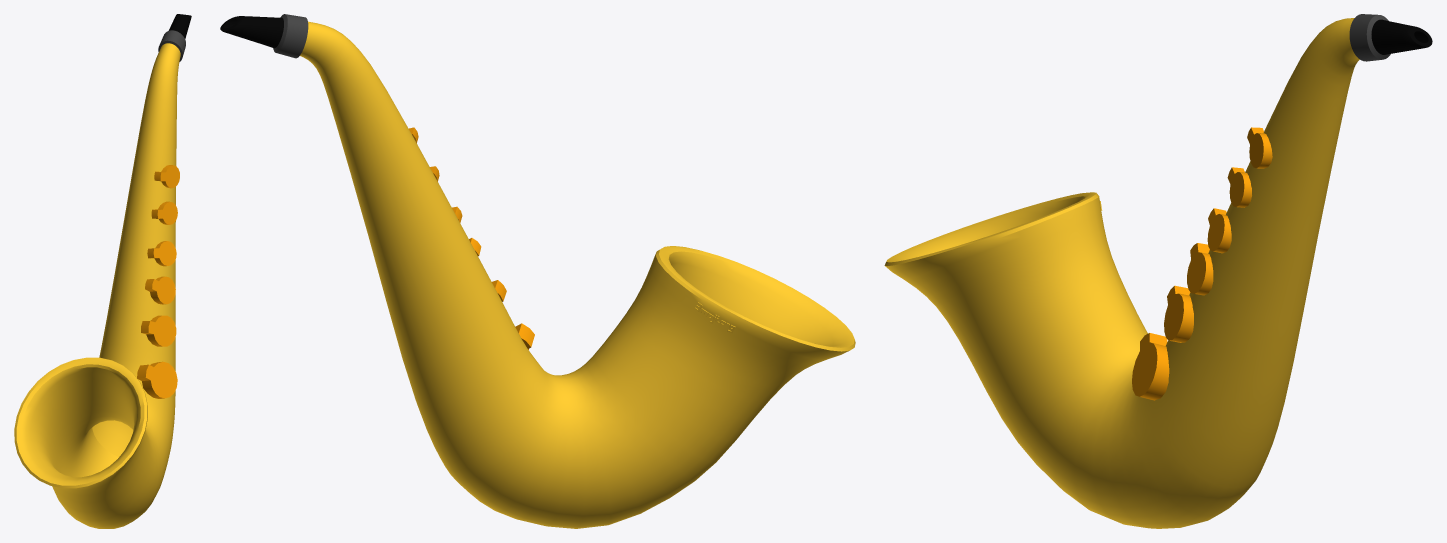
The model's file is saxophone.gltf.
3 renders of one model, left to right at view 1: azimuth 30°, elevation 25°; view 2: azimuth 150°, elevation 25°; view 3: azimuth 270°, elevation 25°, orthographic. The views are drawn at different scales.
Visible parts, largest first — view 1: Circle.2550; view 2: Circle.2550; view 3: Circle.2550.
Part boxes in pixels (box(x1,y1,x2,y2)): Circle.2550: box(14, 14, 191, 528); Circle.2550: box(220, 14, 855, 528); Circle.2550: box(884, 14, 1432, 528).
Bounding box in the file's own units: 1.96 × 2.39 × 1.96.
Materials: 1 (1 with a texture image).
